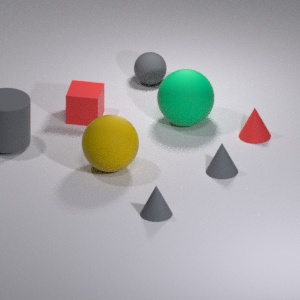lapphuong: (58, 74, 108, 128)
non: (204, 138, 244, 181), (237, 104, 273, 149), (138, 183, 175, 222)
tron: (79, 113, 140, 175), (157, 67, 217, 128), (131, 49, 166, 86)
tru: (0, 83, 31, 157)
